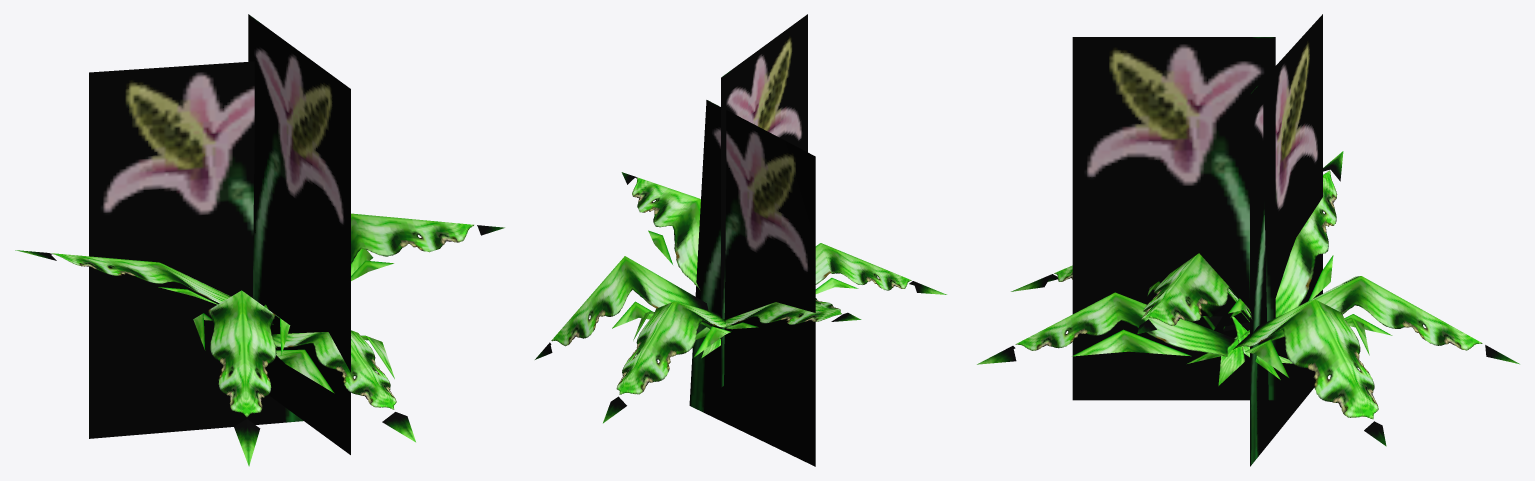
Rendered from stranglethornfern02.obj.
3 renders of one model, left to right at view 1: azimuth 30°, elevation 25°; view 2: azimuth 150°, elevation 25°; view 3: azimuth 270°, elevation 25°, orthographic. The views are drawn at different scales.
Parts seen in each view (by area): view 1: Geoset1, Geoset0; view 2: Geoset1, Geoset0; view 3: Geoset1, Geoset0.
Boxes of the visible parts, <box> form: Geoset1: <box>89,14,350,454</box>; Geoset0: <box>15,213,504,466</box>; Geoset1: <box>689,14,815,466</box>; Geoset0: <box>535,172,946,423</box>; Geoset1: <box>1072,14,1322,466</box>; Geoset0: <box>977,151,1519,446</box>.
Bounding box in the file's own units: 0.9724 × 0.9812 × 1.19.
2 materials, 2 textured.
